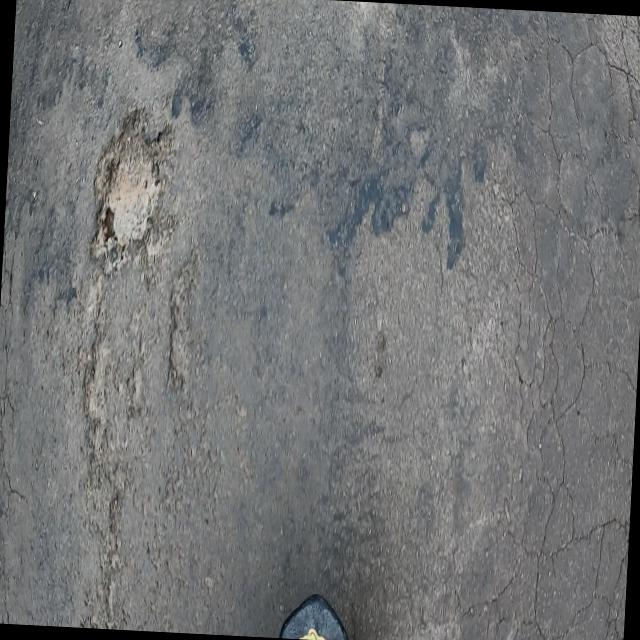Lubang: (91, 108, 175, 278), (169, 251, 196, 385), (84, 333, 110, 465)
